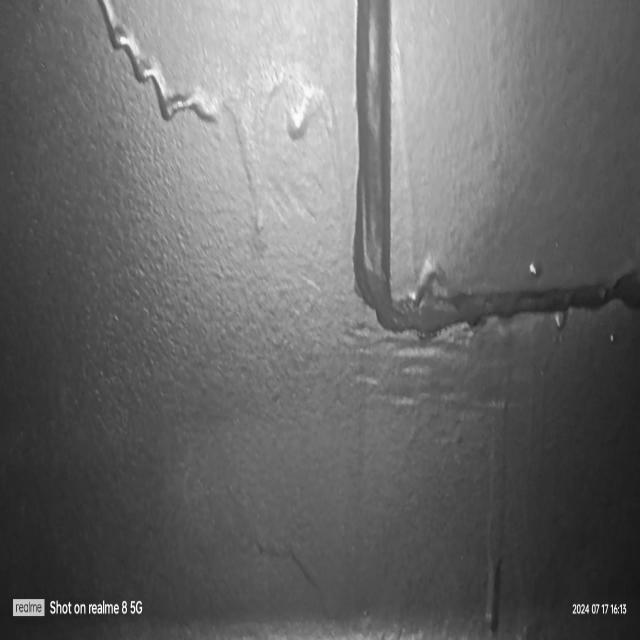paint drips: (223, 70, 349, 273), (81, 0, 221, 154), (471, 332, 521, 640), (237, 525, 342, 614), (519, 228, 546, 288), (550, 297, 572, 348)
